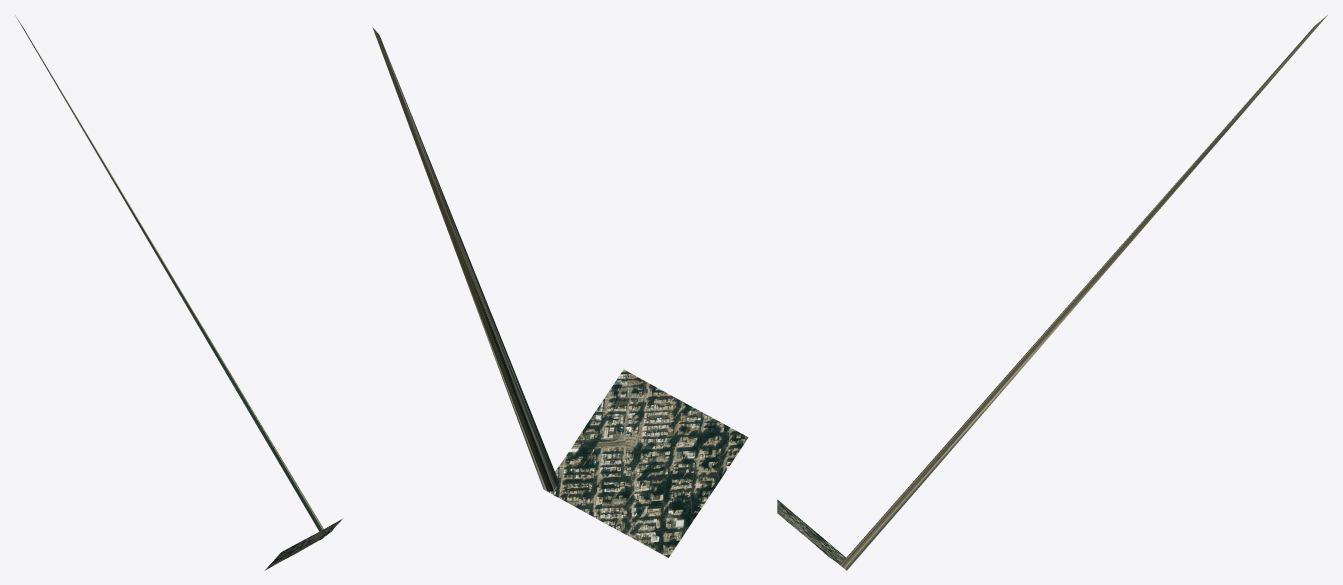
3 views of the same model, side by side, from view 1: azimuth 30°, elevation 25°; view 2: azimuth 150°, elevation 25°; view 3: azimuth 270°, elevation 25° (orthographic). The views are drawn at different scales.
Bounding box in the file's own units: 1616 × 5776 × 5622.
Materials: 1 (1 with a texture image).
